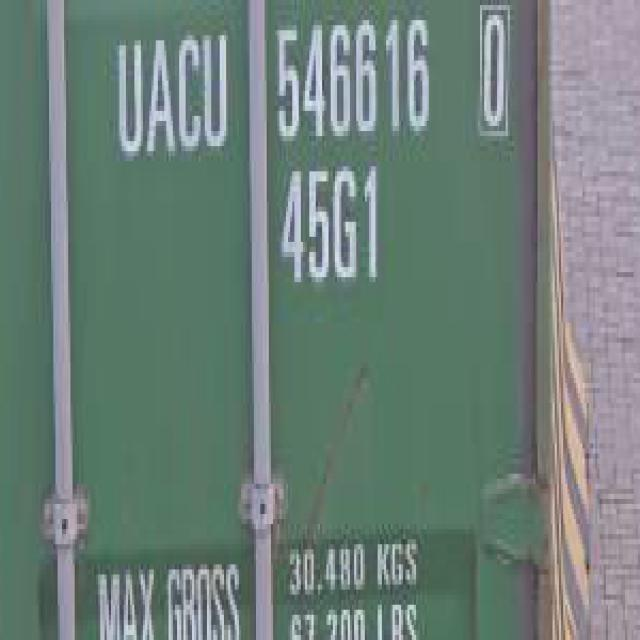dv: (475, 2, 512, 152)
owner: (109, 16, 234, 169)
serial: (271, 9, 438, 153)
size: (272, 161, 391, 298)
